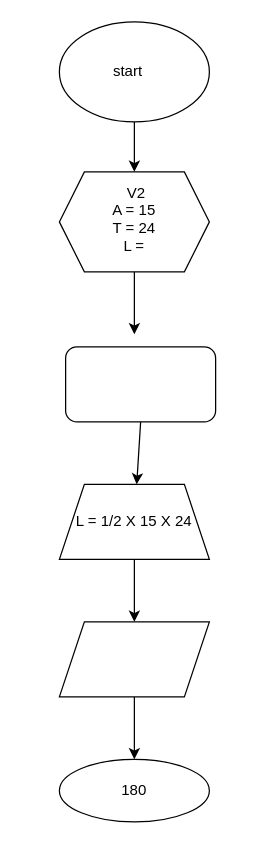
Image size: 268x844. Some labels were removed from this diagram. The centre of each missing label's shape, as x and y in pixels:
1/2 X 360 = 180: (133,659)
L = 1/2 X A X T: (140,384)
